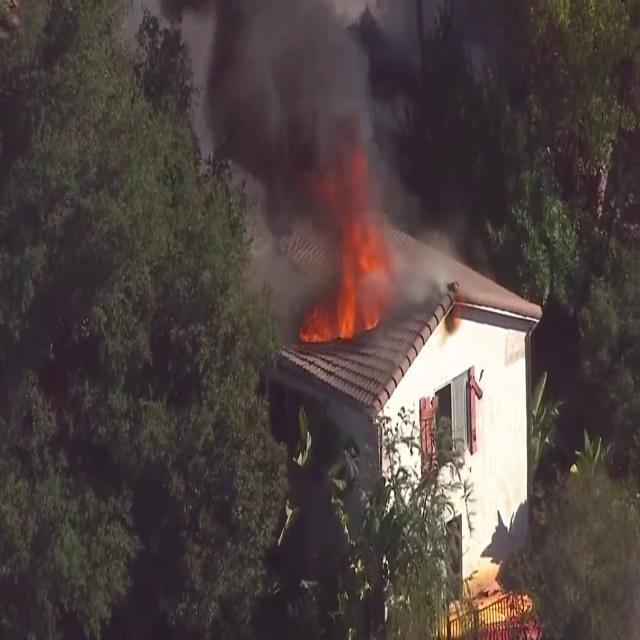Fire: (314, 227, 394, 340)
Smoke: (193, 0, 439, 293)
